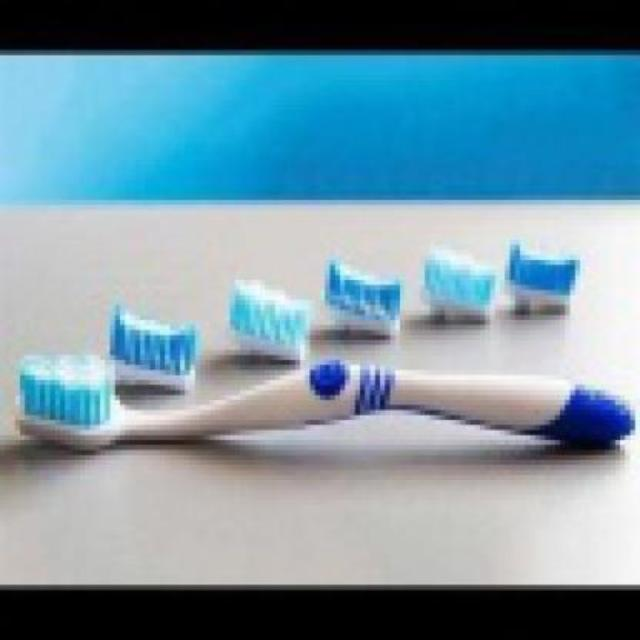toothbrush: (4, 342, 632, 488)
